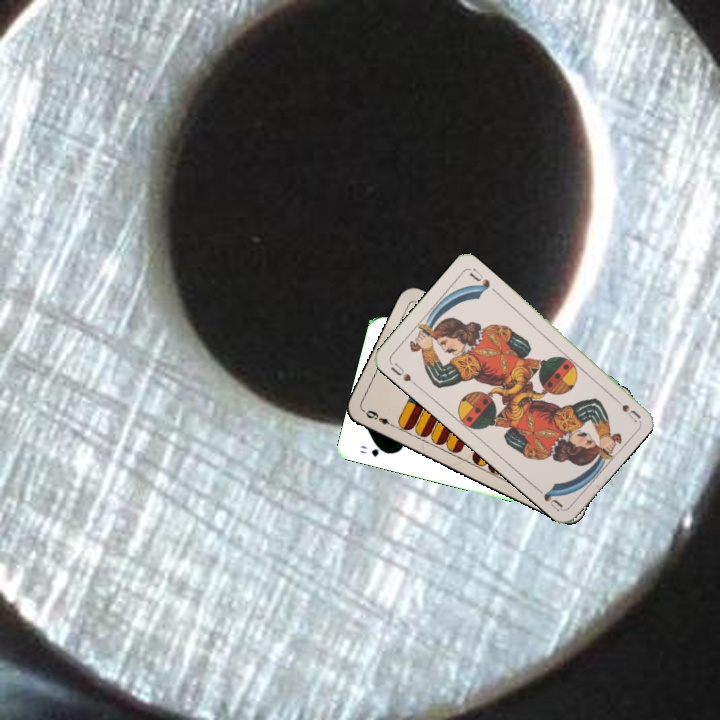E9: (362, 406, 398, 430)
GO: (356, 441, 392, 460)
SU: (607, 391, 642, 423), (386, 359, 420, 389)
